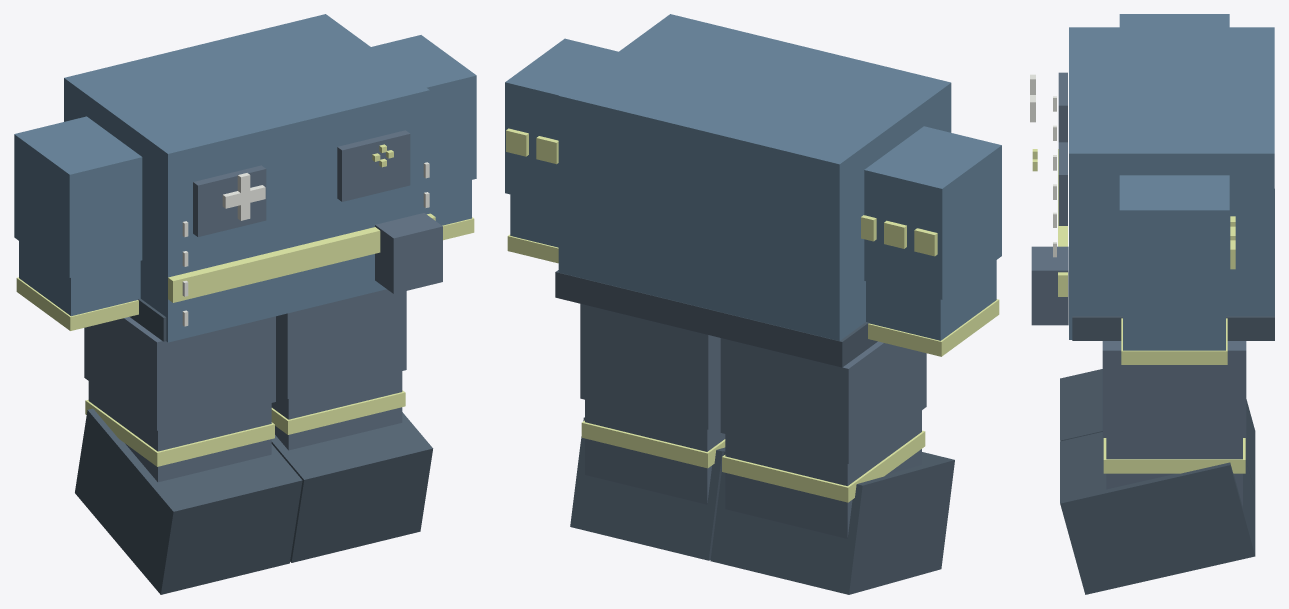
Rendered from paramedic-navy.glb.
3 renders of one model, left to right at view 1: azimuth 30°, elevation 25°; view 2: azimuth 150°, elevation 25°; view 3: azimuth 270°, elevation 25°, orthographic. The views are drawn at different scales.
Visible parts, largest first — view 1: jacket, shoe-Right, upper-sleeve-Right, trouser-Right, shoe-Left, trouser-Left, upper-sleeve-Left, lower-trouser-Right, reflective-band, lower-trouser-Left, lower-sleeve-Right, medical-pouch (+8 smaller); view 2: jacket, trouser-Right, shoe-Right, upper-sleeve-Right, trouser-Left, lower-trouser-Right, shoe-Left, medical-belt, upper-sleeve-Left, lower-trouser-Left, lower-sleeve-Right, reflective-leg-Right (+4 smaller); view 3: jacket, shoe-Left, upper-sleeve-Left, trouser-Left, lower-sleeve-Left, lower-trouser-Left, shoe-Right, medical-pouch, medical-belt, reflective-leg-Left, cuff-Left, upper-sleeve-Right (+3 smaller).
Part boxes in pixels (left/top/right/bottom): jacket: left=64, top=14, right=429, bottom=342; shoe-Right: left=75, top=408, right=302, bottom=594; upper-sleeve-Right: left=14, top=116, right=142, bottom=277; trouser-Right: left=84, top=316, right=275, bottom=430; shoe-Left: left=271, top=412, right=433, bottom=562; trouser-Left: left=276, top=289, right=406, bottom=398; upper-sleeve-Left: left=371, top=35, right=476, bottom=189; lower-trouser-Right: left=88, top=381, right=271, bottom=482; reflective-band: left=168, top=213, right=435, bottom=302; lower-trouser-Left: left=271, top=371, right=402, bottom=450; lower-sleeve-Right: left=19, top=241, right=140, bottom=316; medical-pouch: left=375, top=213, right=442, bottom=293; jacket: left=558, top=14, right=951, bottom=340; trouser-Right: left=720, top=338, right=926, bottom=463; shoe-Right: left=710, top=451, right=954, bottom=594; upper-sleeve-Right: left=864, top=126, right=1001, bottom=299; trouser-Left: left=580, top=304, right=720, bottom=429; lower-trouser-Right: left=725, top=410, right=921, bottom=538; shoe-Left: left=570, top=417, right=725, bottom=560; medical-belt: left=555, top=270, right=877, bottom=367; upper-sleeve-Left: left=505, top=38, right=618, bottom=205; lower-trouser-Left: left=585, top=400, right=725, bottom=504; lower-sleeve-Right: left=866, top=260, right=996, bottom=340; reflective-leg-Right: left=722, top=430, right=925, bottom=502; jacket: left=1069, top=27, right=1274, bottom=339; shoe-Left: left=1060, top=432, right=1255, bottom=594; upper-sleeve-Left: left=1119, top=175, right=1229, bottom=312; trouser-Left: left=1102, top=341, right=1246, bottom=437; lower-sleeve-Left: left=1123, top=312, right=1225, bottom=350; lower-trouser-Left: left=1106, top=438, right=1242, bottom=506; shoe-Right: left=1060, top=369, right=1255, bottom=492; medical-pouch: left=1031, top=246, right=1068, bottom=325; medical-belt: left=1072, top=189, right=1274, bottom=340; reflective-leg-Left: left=1103, top=438, right=1245, bottom=473; cuff-Left: left=1121, top=318, right=1227, bottom=364; upper-sleeve-Right: left=1119, top=14, right=1229, bottom=27.
Bounding box in the file's own units: 1.07 × 1.13 × 0.566.
